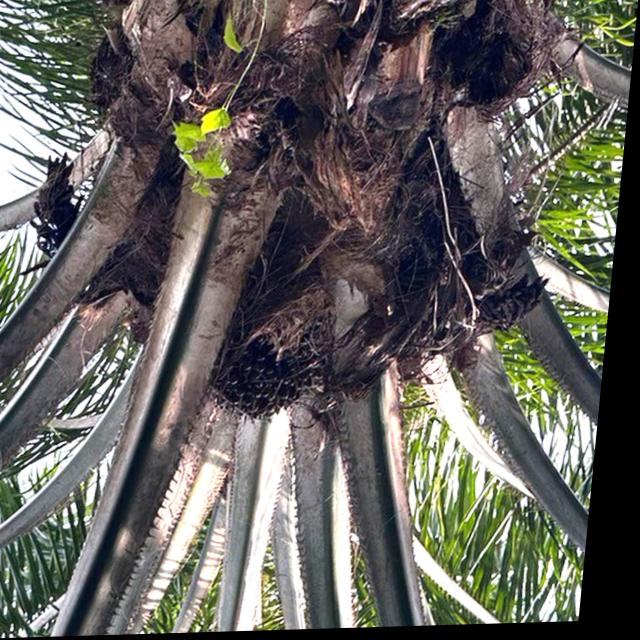almost: (199, 233, 358, 434)
